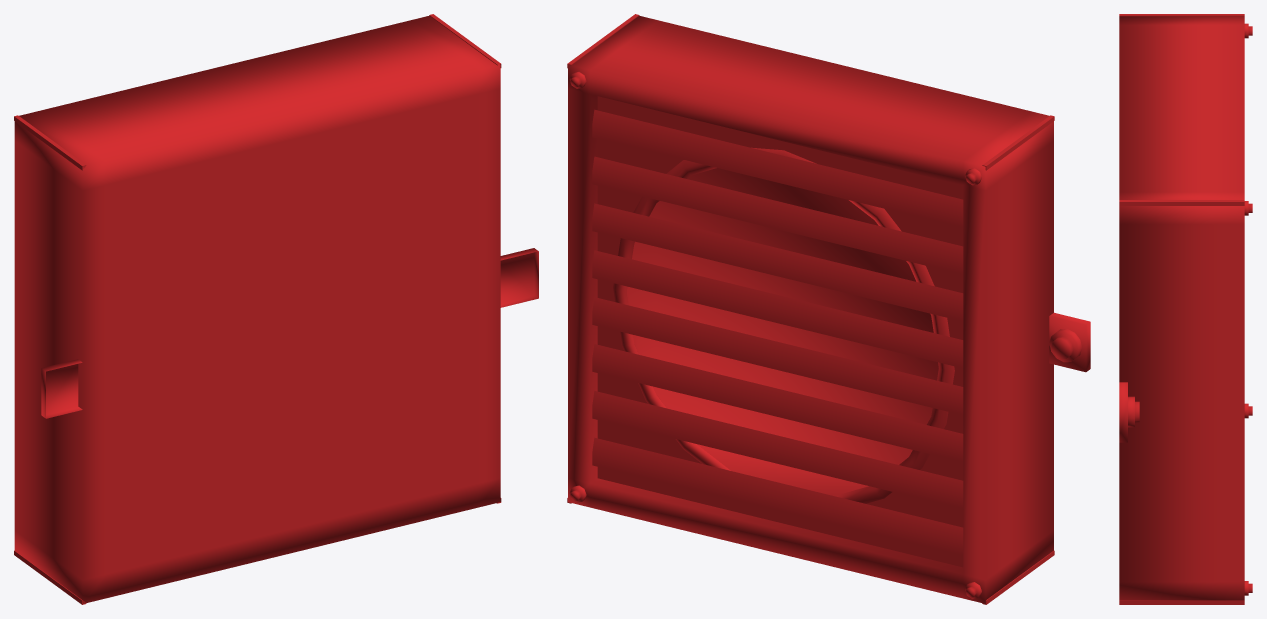
File: SNWP_MOD_BUN_Ventilator.fbx
The picture shows the model from 3 angles, left to right: view 1: azimuth 30°, elevation 25°; view 2: azimuth 150°, elevation 25°; view 3: azimuth 270°, elevation 25°; orthographic projection. The views are drawn at different scales.
Visible parts, largest first — view 1: SNWP_MOD_Ventilator; view 2: SNWP_MOD_Ventilator; view 3: SNWP_MOD_Ventilator.
Part boxes in pixels (x1=…): SNWP_MOD_Ventilator: x1=14, y1=14, x2=538, y2=604; SNWP_MOD_Ventilator: x1=567, y1=14, x2=1090, y2=604; SNWP_MOD_Ventilator: x1=1119, y1=14, x2=1252, y2=604.
Size of the model in its own units: 0.6603 by 0.5619 by 0.1684.
